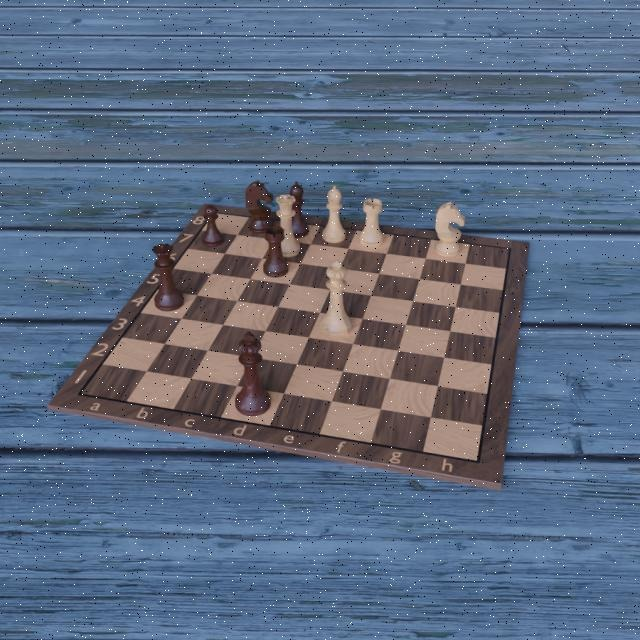black-bishop: (286, 179, 310, 240)
black-king: (233, 331, 273, 416)
black-knight: (244, 179, 276, 233)
black-pawn: (199, 204, 224, 248)
black-queen: (152, 243, 184, 311)
black-rook: (261, 223, 290, 278)
white-bishop: (321, 182, 347, 247)
white-king: (318, 258, 356, 337)
white-knight: (432, 200, 467, 259)
white-queen: (274, 193, 302, 259)
white-rook: (356, 197, 387, 248)
